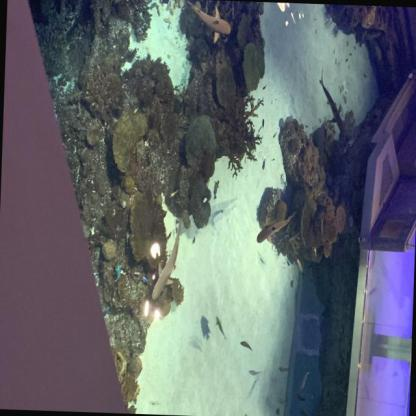fish: (213, 315, 228, 341), (297, 370, 310, 394), (210, 179, 220, 201), (113, 262, 122, 282), (239, 340, 254, 352), (294, 258, 304, 274), (140, 274, 152, 287), (309, 245, 318, 259), (103, 305, 110, 318), (278, 365, 291, 372), (283, 256, 290, 268), (260, 117, 265, 129), (261, 158, 266, 169), (272, 130, 277, 138), (262, 83, 267, 91), (134, 271, 142, 276), (345, 58, 348, 63)
shark: (314, 66, 350, 137), (150, 221, 181, 301), (180, 0, 233, 43), (256, 207, 298, 246)
